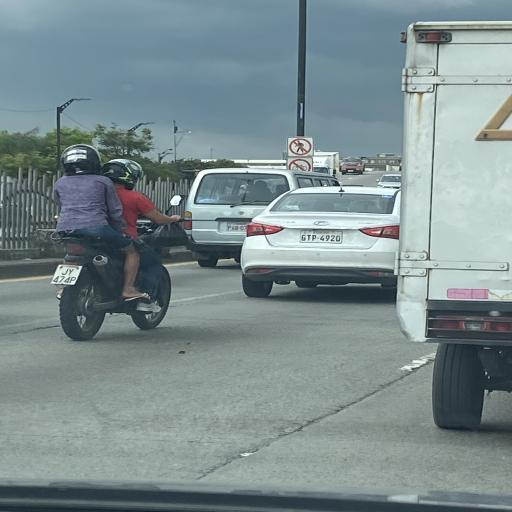license_plate: (319, 234, 325, 242), (330, 234, 336, 242), (312, 234, 317, 241), (302, 234, 306, 242), (326, 234, 330, 242), (306, 235, 311, 241), (336, 235, 340, 242)
